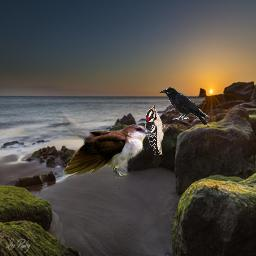Crow: (159, 87, 208, 125)
Cuckoo: (63, 89, 155, 179)
Woodpecker: (145, 104, 169, 155)
